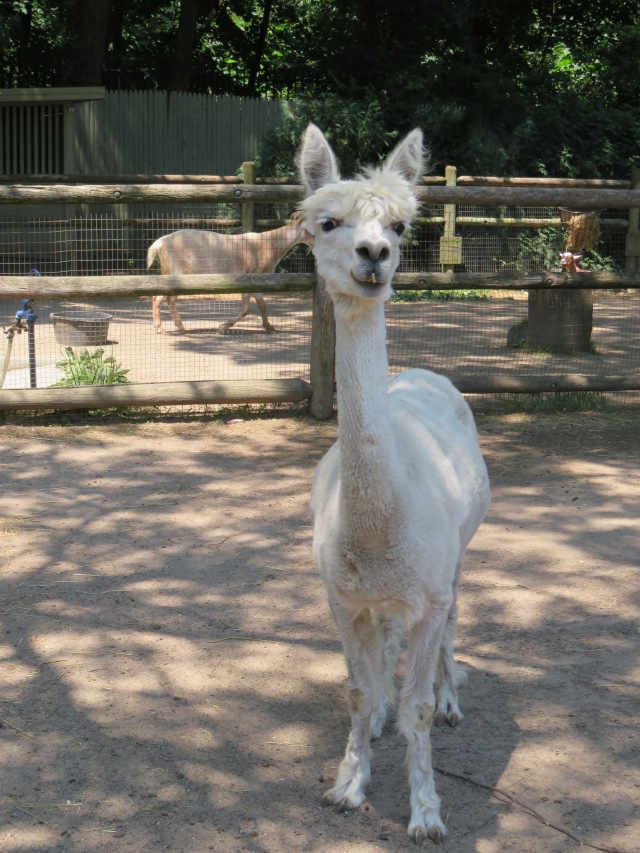alpaca: (291, 117, 492, 842)
